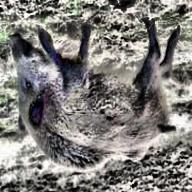boar: (5, 14, 185, 178)
